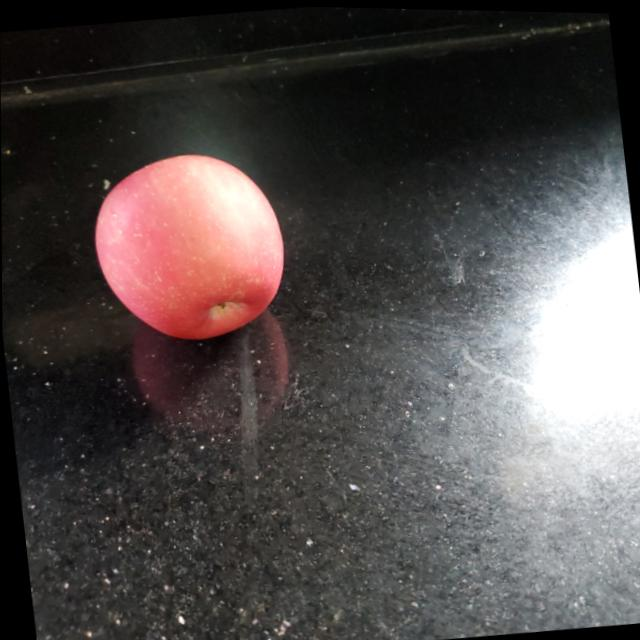apple: (85, 146, 292, 353)
